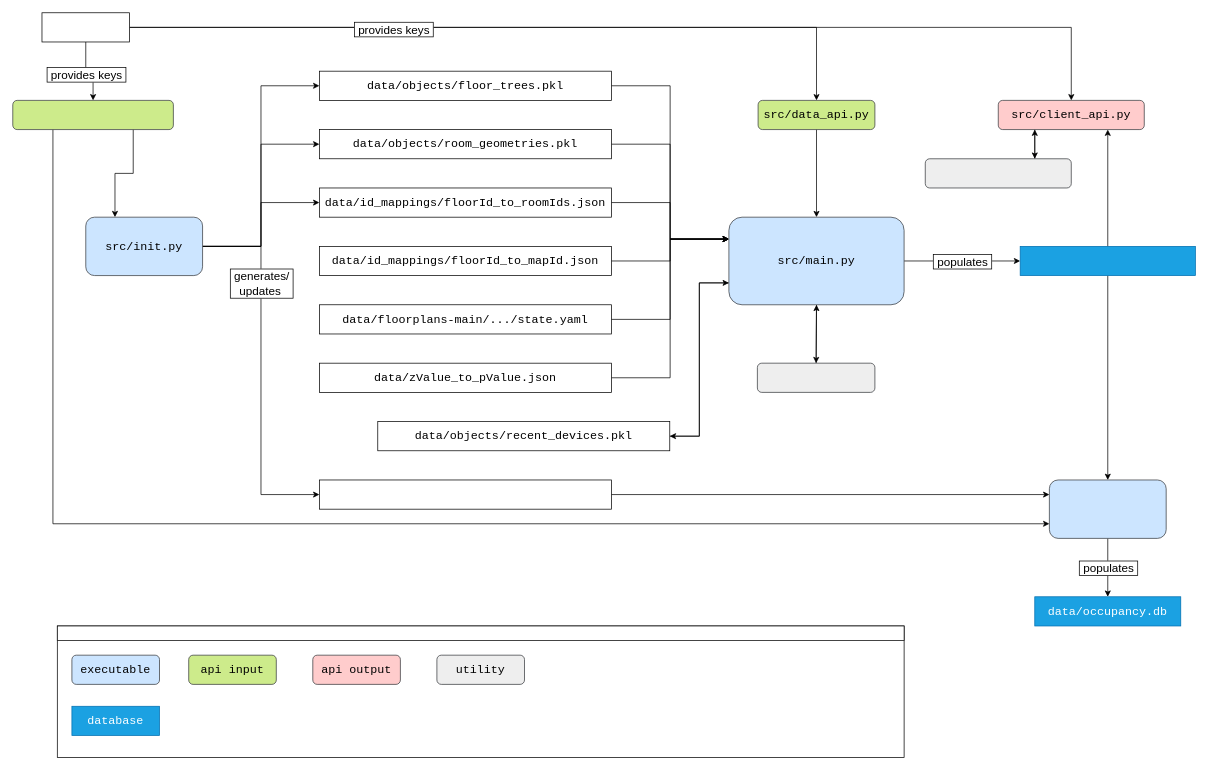
This 1208x770 diagram has some shape labels left out. The shapes that lost their labels are listed below. From the top down, each one's centre as x and y in pixels, then its label:
At [85,27]: ".env".
At [92,115]: "src/pythagoras_api.py".
At [998,173]: "src/density_map.py".
At [1107,261]: "data/refined_data.db".
At [816,377]: "src/device.py".
At [465,494]: "data/id_mappings/department_mappings.json".
At [1107,508]: "src/occupancy.py".
At [480,633]: "Legend".
